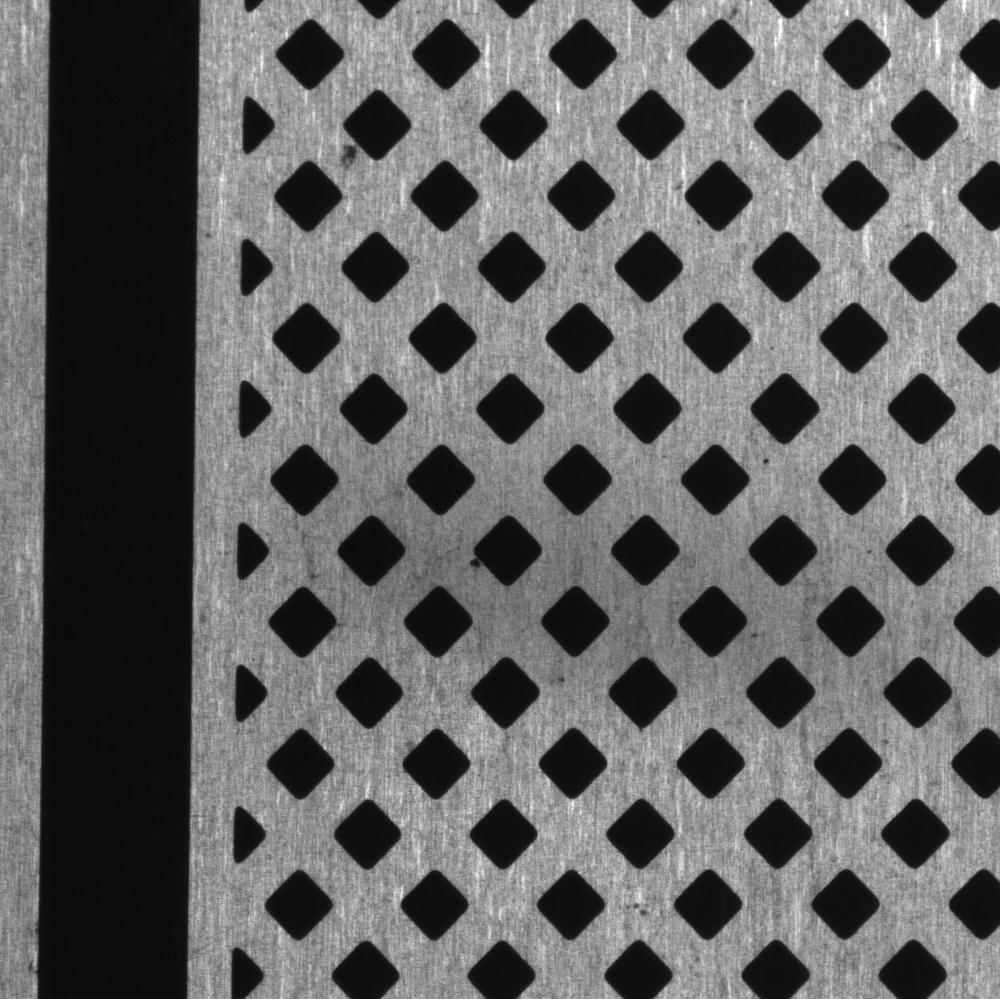Discolor: (329, 139, 359, 179)
Etching: (615, 886, 666, 930), (452, 539, 484, 582)
